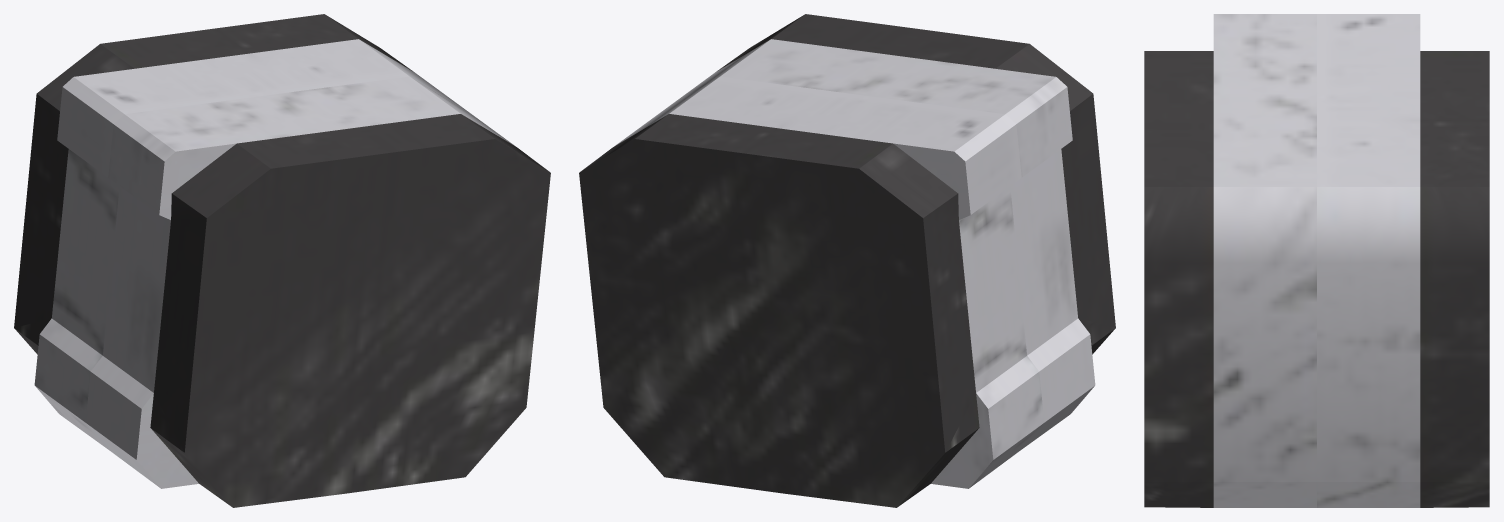
Rendered from upuparm1.obj.
3 views of the same model, side by side, from view 1: azimuth 30°, elevation 25°; view 2: azimuth 150°, elevation 25°; view 3: azimuth 270°, elevation 25° (orthographic).
Visible parts, largest first — view 1: polySurface6 group1 uploads_files_730998_Gundam:polySurface666; view 2: polySurface6 group1 uploads_files_730998_Gundam:polySurface666; view 3: polySurface6 group1 uploads_files_730998_Gundam:polySurface666.
Part boxes in pixels (bbox=[...]): polySurface6 group1 uploads_files_730998_Gundam:polySurface666: bbox=[14, 14, 550, 507]; polySurface6 group1 uploads_files_730998_Gundam:polySurface666: bbox=[579, 14, 1115, 507]; polySurface6 group1 uploads_files_730998_Gundam:polySurface666: bbox=[1144, 14, 1489, 507].
Bounding box in the file's own units: 2.19 × 2 × 1.7.
Materials: 1 (1 with a texture image).
